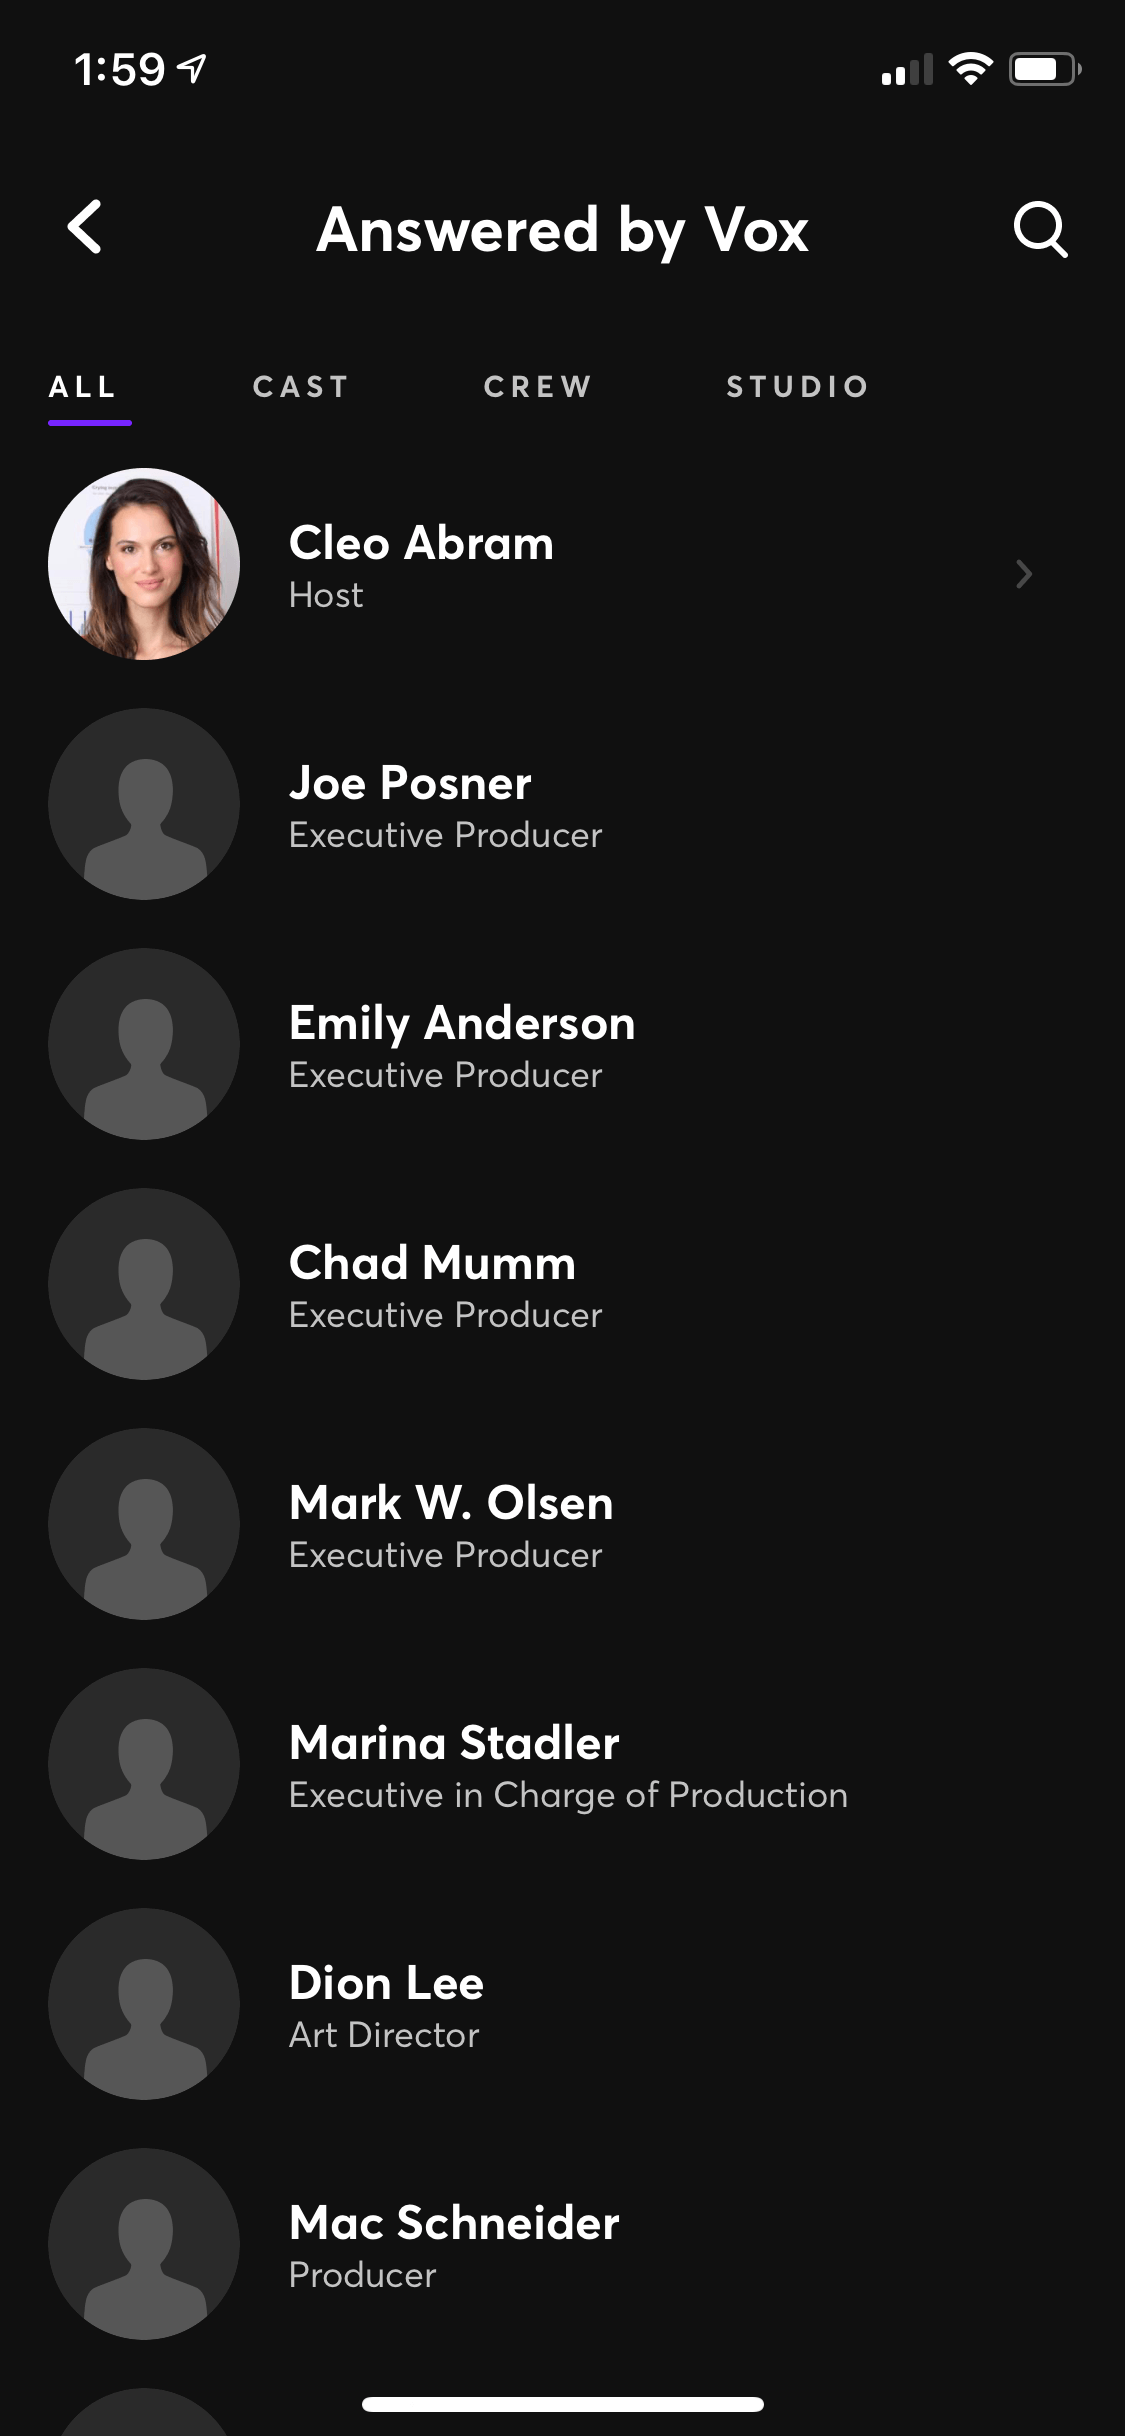Buttons: (8, 151, 152, 294), (974, 162, 1106, 292)
